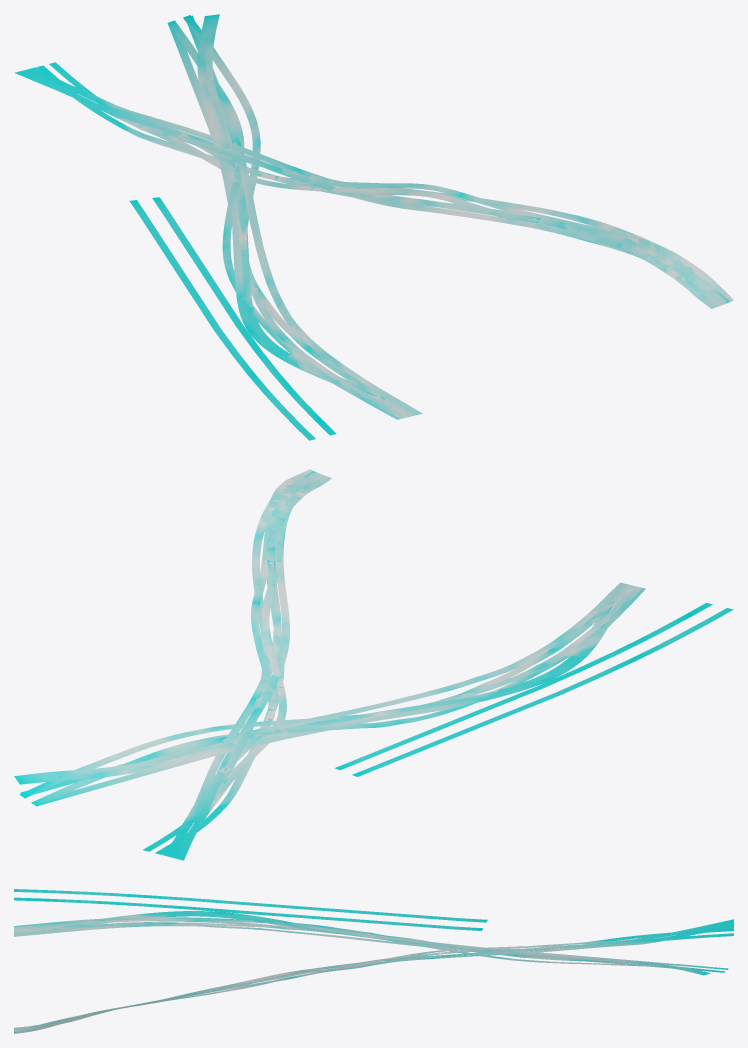
3 renders of one model, top to bottom at view 1: azimuth 30°, elevation 25°; view 2: azimuth 150°, elevation 25°; view 3: azimuth 270°, elevation 25°, orthographic. The views are drawn at different scales.
Visible parts, largest first — view 1: SpaceCenter_Long3_GenerateRoad_Sand_TireTracks_Narrow_Mesh_x; view 2: SpaceCenter_Long3_GenerateRoad_Sand_TireTracks_Narrow_Mesh_x; view 3: SpaceCenter_Long3_GenerateRoad_Sand_TireTracks_Narrow_Mesh_x.
Part boxes in pixels (x1,y1,x2,y2): SpaceCenter_Long3_GenerateRoad_Sand_TireTracks_Narrow_Mesh_x: (14,14,733,440); SpaceCenter_Long3_GenerateRoad_Sand_TireTracks_Narrow_Mesh_x: (14,469,733,860); SpaceCenter_Long3_GenerateRoad_Sand_TireTracks_Narrow_Mesh_x: (14,889,733,1033).
Size of the model in its own units: 2304 by 1336 by 173.
